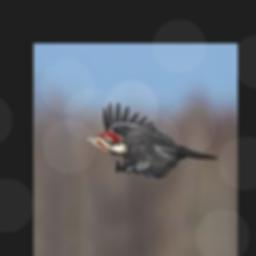Woodpecker: (81, 101, 218, 179)
